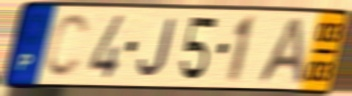1: (227, 12, 261, 87)
4: (85, 12, 131, 82)
5: (178, 14, 219, 82)
A: (254, 15, 307, 87)
C: (43, 11, 92, 81)
J: (136, 17, 178, 80)
